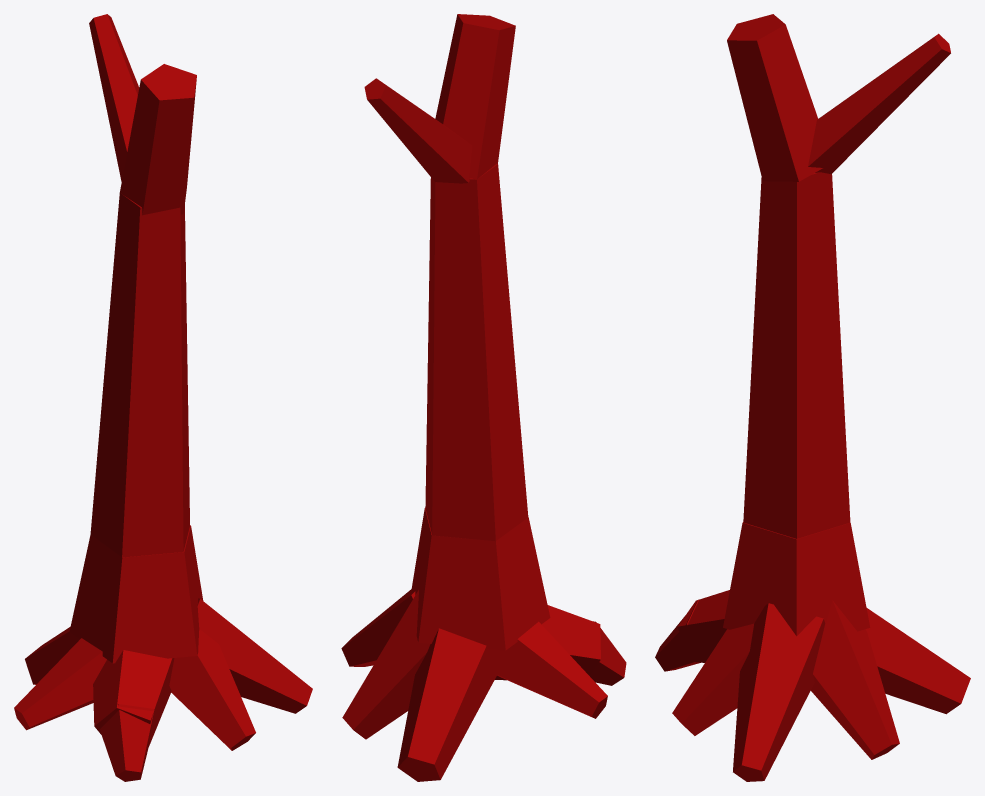
Rendered from SM_Env_Tree_Forest_01_Collision.glb.
3 views of the same model, side by side, from view 1: azimuth 30°, elevation 25°; view 2: azimuth 150°, elevation 25°; view 3: azimuth 270°, elevation 25° (orthographic). The views are drawn at different scales.
Parts seen in each view (by area): view 1: SM_Env_Tree_Forest_01_Collision; view 2: SM_Env_Tree_Forest_01_Collision; view 3: SM_Env_Tree_Forest_01_Collision.
Boxes of the visible parts, x1,y1,x2,y2 form: SM_Env_Tree_Forest_01_Collision: (14,14,312,781); SM_Env_Tree_Forest_01_Collision: (341,14,626,781); SM_Env_Tree_Forest_01_Collision: (655,14,970,781).
Bounding box in the file's own units: 4.39 × 10.4 × 4.21.
